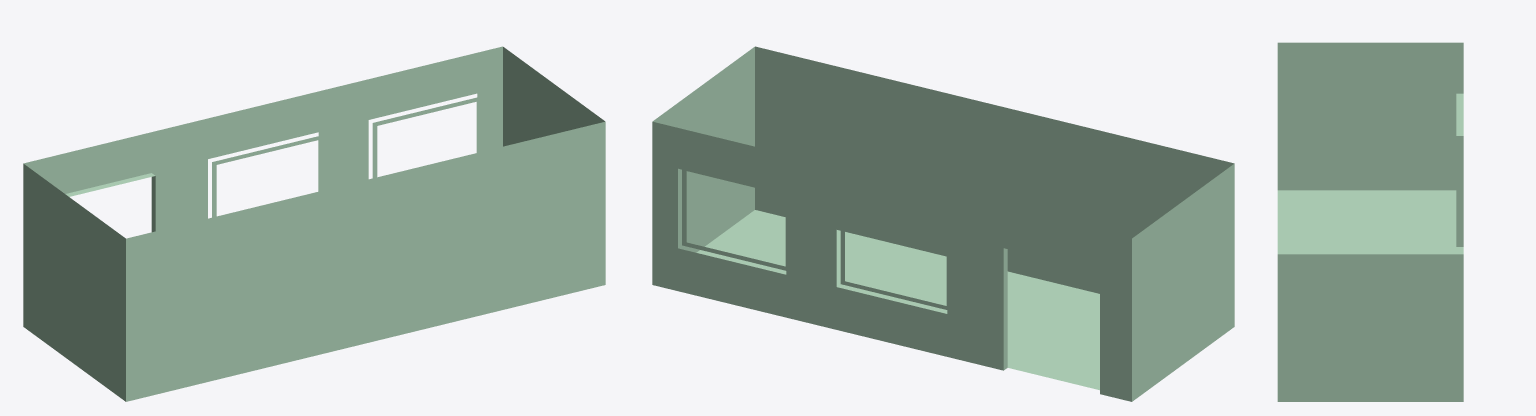
The model's file is Bld_C_low_L2_B.fbx.
3 renders of one model, left to right at view 1: azimuth 30°, elevation 25°; view 2: azimuth 150°, elevation 25°; view 3: azimuth 270°, elevation 25°, orthographic. The views are drawn at different scales.
Parts seen in each view (by area): view 1: Bld_C_low_L2_B_LOD0; view 2: Bld_C_low_L2_B_LOD0; view 3: Bld_C_low_L2_B_LOD0.
Boxes of the visible parts, bbox=[...] form: Bld_C_low_L2_B_LOD0: bbox=[23, 46, 605, 401]; Bld_C_low_L2_B_LOD0: bbox=[652, 46, 1234, 401]; Bld_C_low_L2_B_LOD0: bbox=[1277, 42, 1463, 401].
Size of what is drawn, in the model's own units: 1300 by 564 by 633.
Materials: 1 (1 with a texture image).
